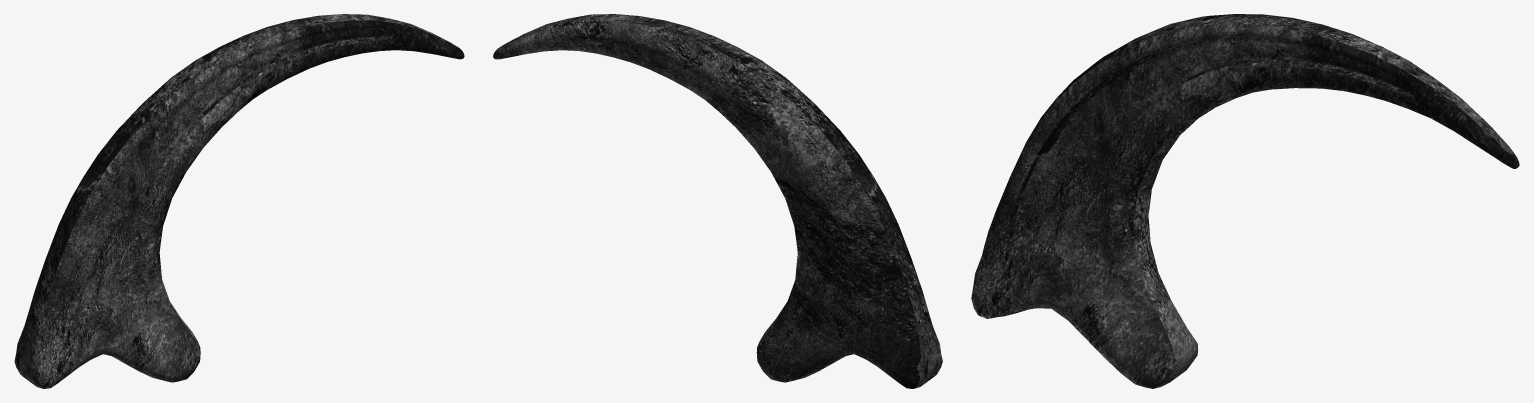
Rendered from Raptor Claw.FBX.
3 renders of one model, left to right at view 1: azimuth 30°, elevation 25°; view 2: azimuth 150°, elevation 25°; view 3: azimuth 330°, elevation 25°, orthographic. The views are drawn at different scales.
Visible parts, largest first — view 1: Raptor Claw; view 2: Raptor Claw; view 3: Raptor Claw.
Part boxes in pixels (x1,y1,x2,y2): Raptor Claw: (14,14,464,388); Raptor Claw: (493,14,942,388); Raptor Claw: (971,14,1519,388).
Bounding box in the file's own units: 428 × 300 × 45.08.
1 material, 1 textured.
